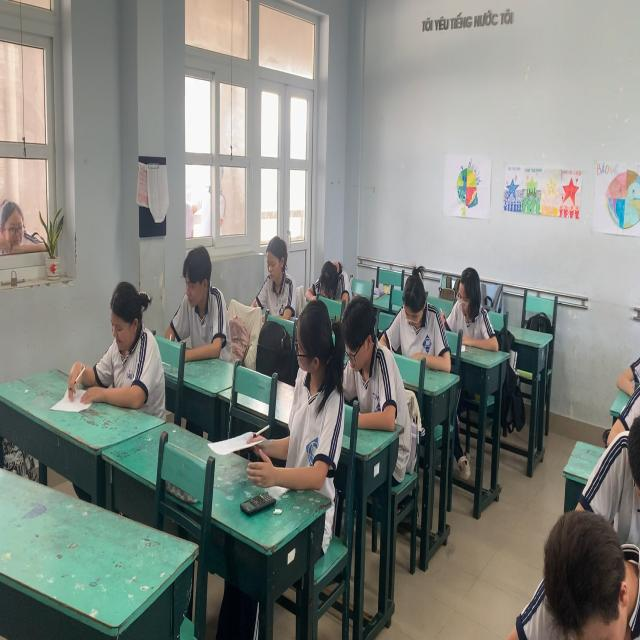not_cheating: (286, 296, 340, 458), (107, 285, 161, 406), (173, 244, 227, 364), (336, 286, 395, 386), (400, 258, 442, 371), (252, 230, 297, 320), (449, 258, 478, 341), (313, 251, 348, 306)
